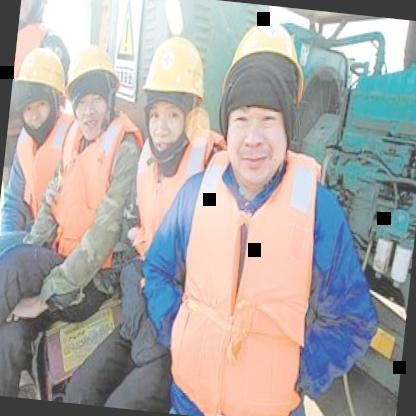helmet: (211, 13, 314, 212), (131, 25, 212, 162), (6, 30, 69, 151), (43, 32, 110, 145)
